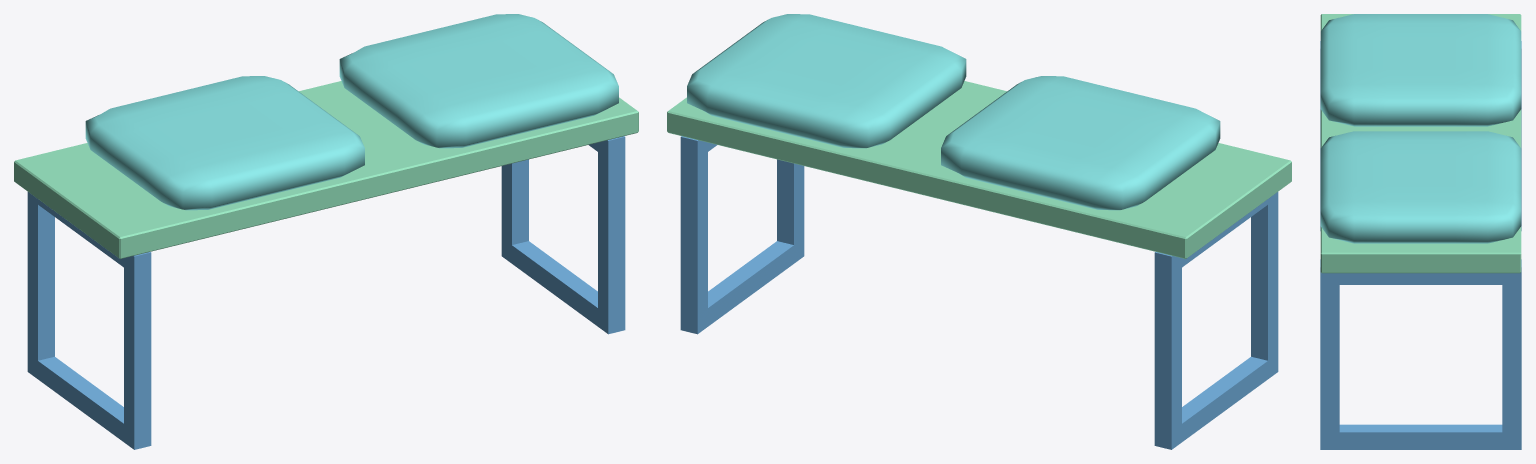
File: benchA.fbx
The picture shows the model from 3 angles, left to right: view 1: azimuth 30°, elevation 25°; view 2: azimuth 150°, elevation 25°; view 3: azimuth 270°, elevation 25°; orthographic projection. The views are drawn at different scales.
Parts seen in each view (by area): view 1: benchA; view 2: benchA; view 3: benchA.
Boxes of the visible parts, x1=… form: benchA: x1=14, y1=14, x2=638, y2=449; benchA: x1=667, y1=14, x2=1291, y2=449; benchA: x1=1320, y1=14, x2=1521, y2=449.
Bounding box in the file's own units: 109 × 50.06 × 38.74.
